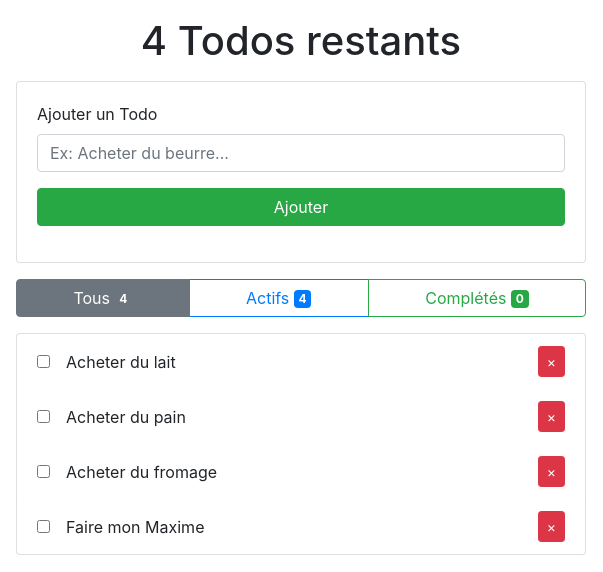
Scenario: Basculement complété / non-complété › le compteur de restants remonte quand un todo est décoché
Click the checkbox named "marquer \"acheter du lait\" comme complété": {"x": 44, "y": 362} left=37, top=355, right=50, bottom=368
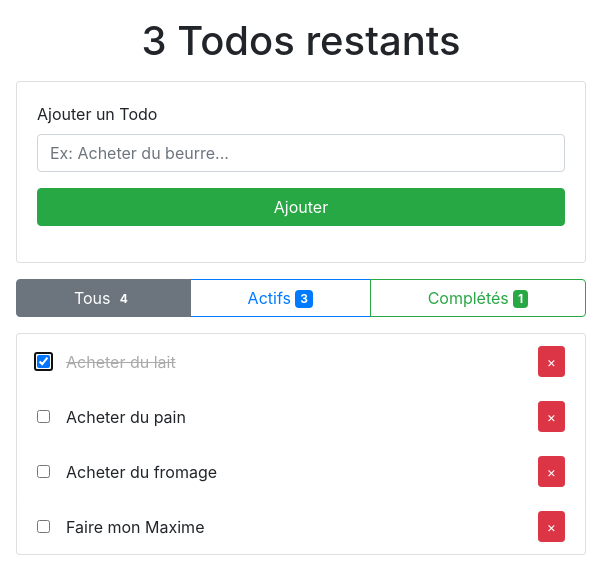
Click the checkbox named "marquer \"acheter du lait\" comme complété": {"x": 44, "y": 362} left=37, top=355, right=50, bottom=368
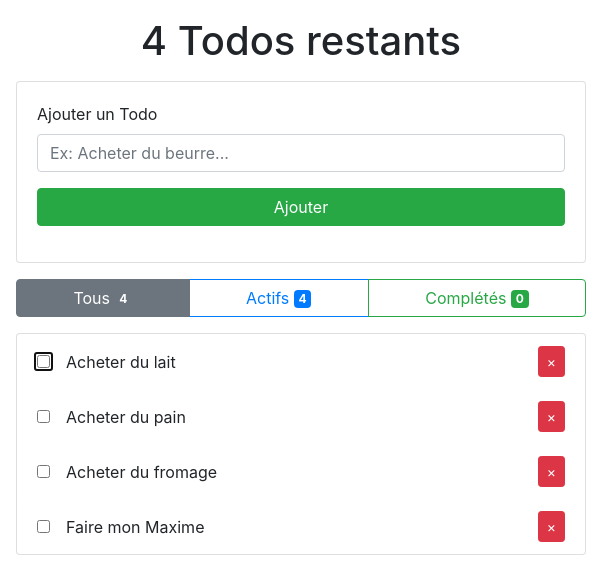
expect the heading "4 Todos restants" is shown: met, box left=141, top=16, right=461, bottom=65
